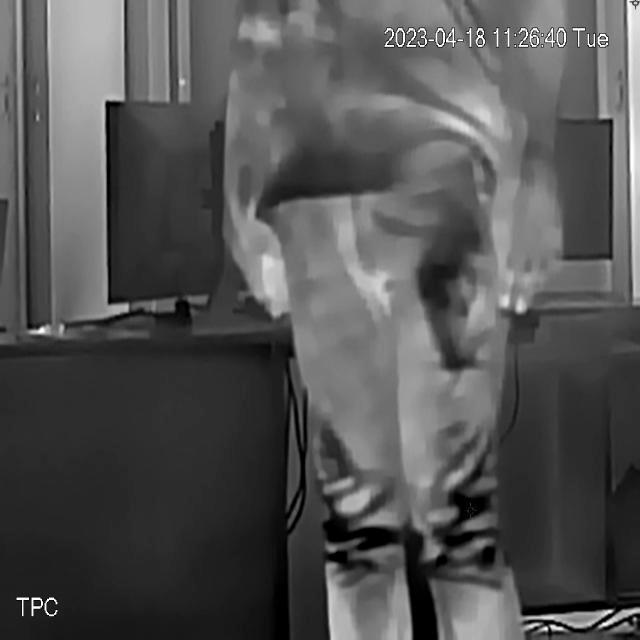Weapon: (372, 173, 520, 384)
